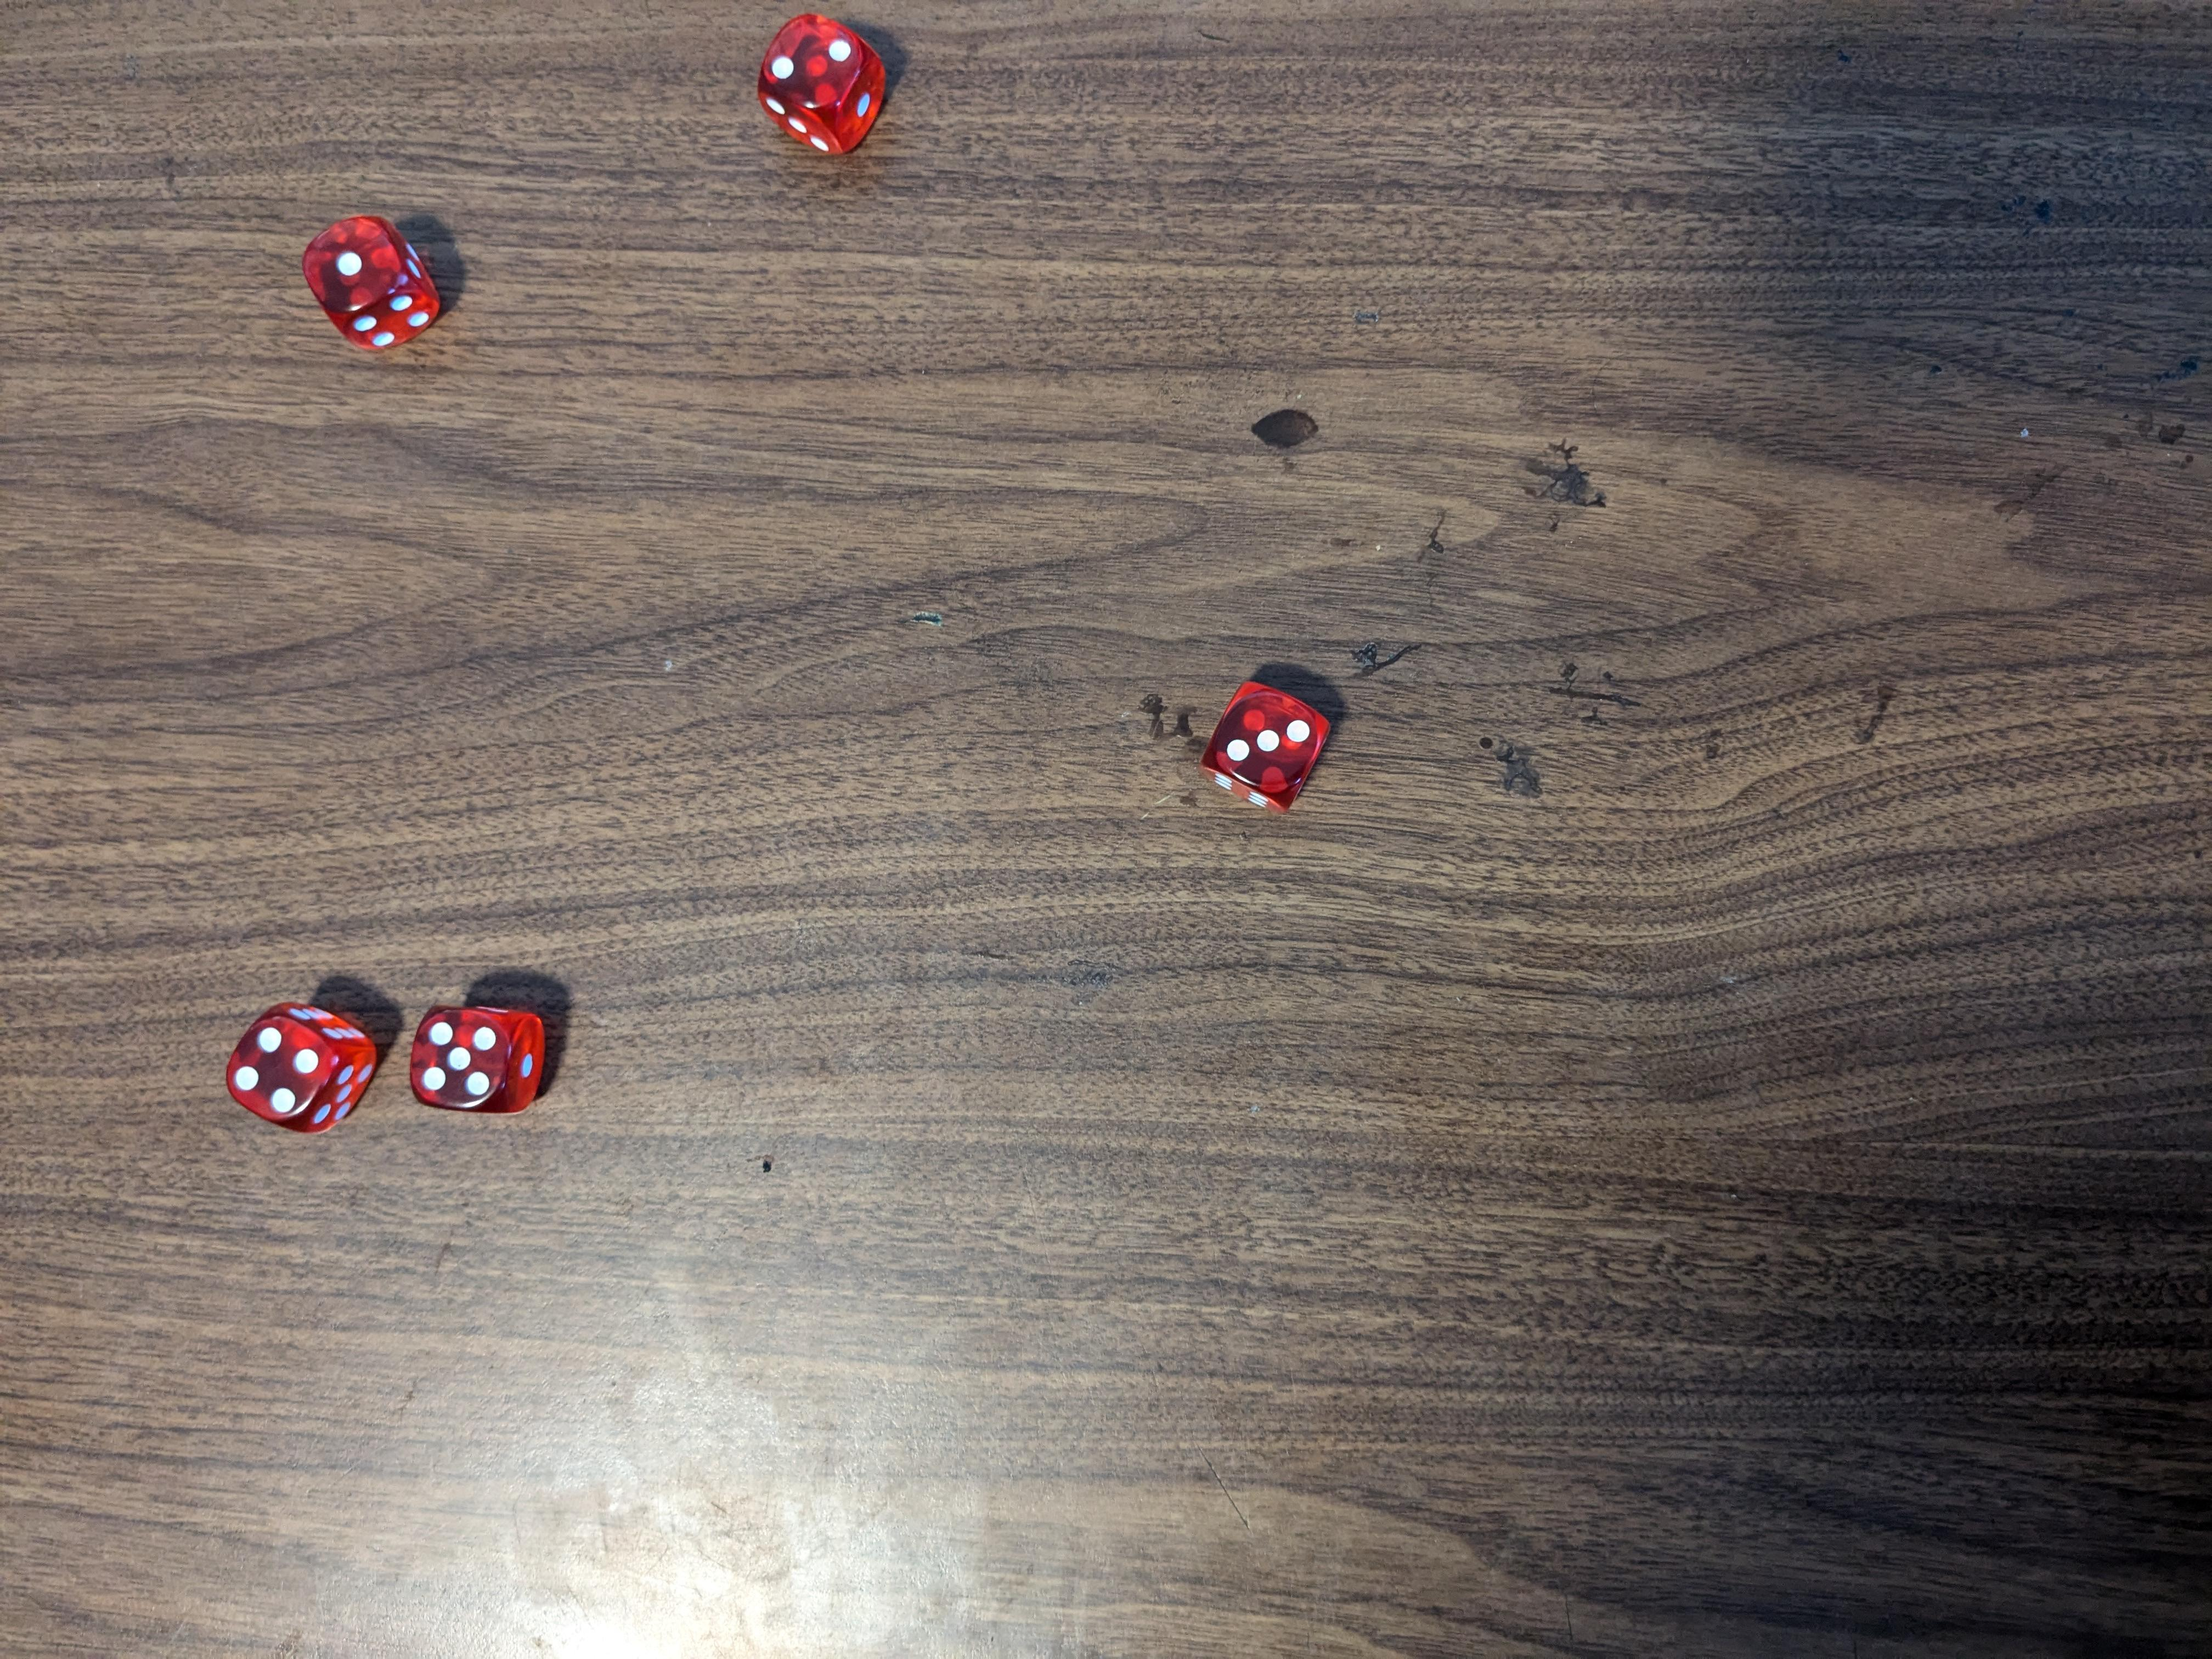five: (409, 1009, 552, 1114)
four: (221, 1004, 374, 1122)
one: (305, 211, 437, 335)
three: (1200, 674, 1334, 812)
two: (754, 12, 892, 141)
